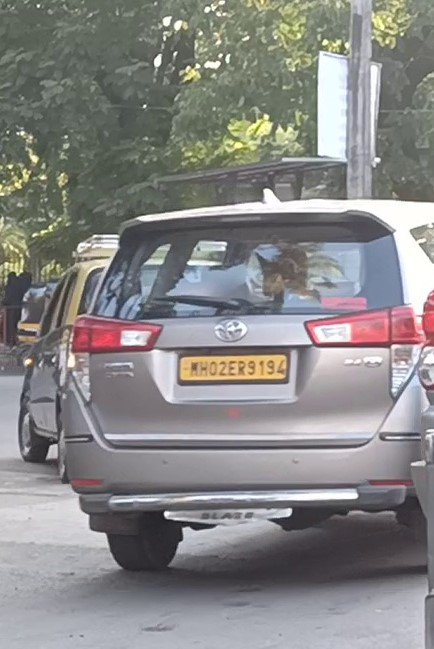MH02ER9194: (178, 353, 288, 380)
